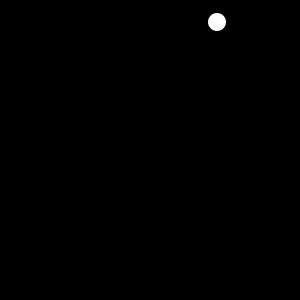rectangle: (208, 13, 226, 31)
